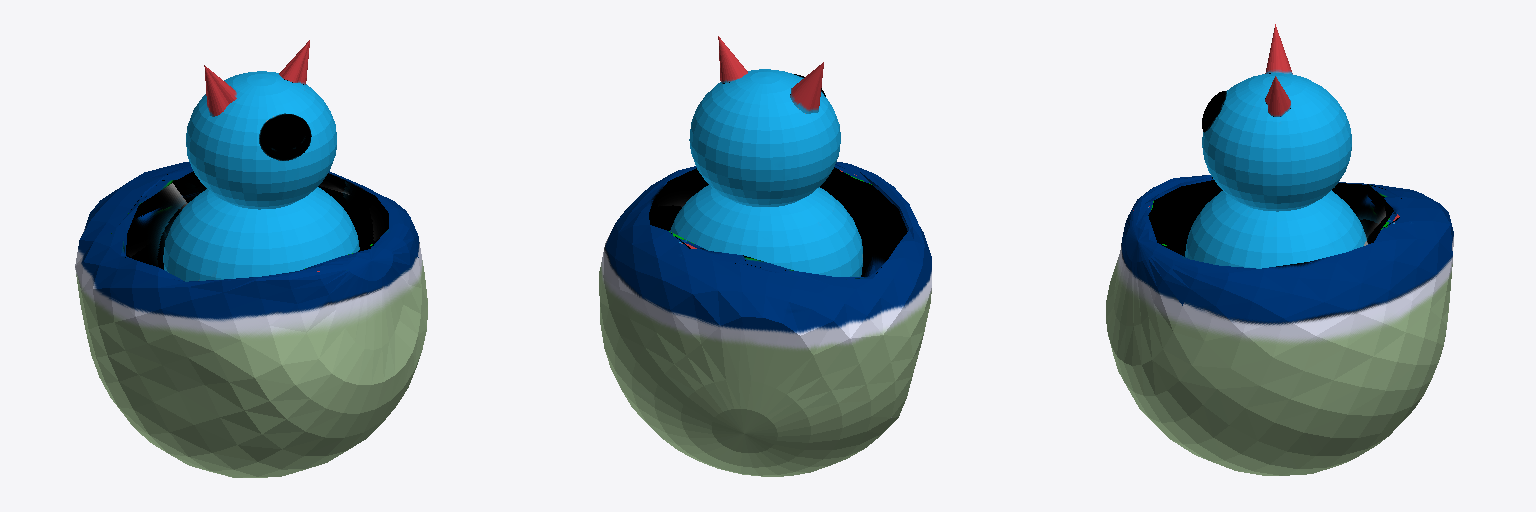
The picture shows the model from 3 angles: view 1: azimuth 30°, elevation 25°; view 2: azimuth 150°, elevation 25°; view 3: azimuth 270°, elevation 25°; orthographic projection.
Parts seen in each view (by area): view 1: 球.003; view 2: 球.003; view 3: 球.003.
Part boxes in pixels (left/top/right/bottom): 球.003: left=75, top=40, right=427, bottom=477; 球.003: left=599, top=36, right=931, bottom=476; 球.003: left=1106, top=24, right=1453, bottom=475.
Bounding box in the file's own units: 2.02 × 2.64 × 2.03.
1 materials, 1 textured.